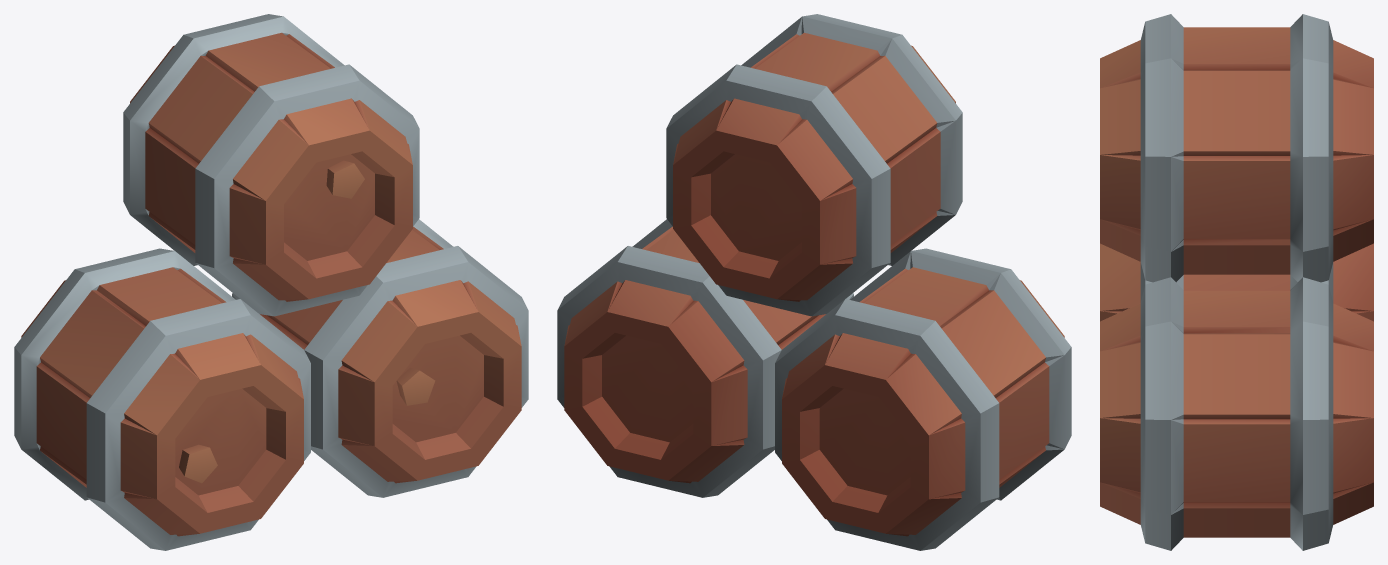
Rendered from cc0-barrel-stack-lod1.glb.
3 views of the same model, side by side, from view 1: azimuth 30°, elevation 25°; view 2: azimuth 150°, elevation 25°; view 3: azimuth 270°, elevation 25° (orthographic).
Parts seen in each view (by area): view 1: part_0; view 2: part_0; view 3: part_0.
Boxes of the visible parts, x1=… form: part_0: x1=14, y1=14, x2=528, y2=550; part_0: x1=557, y1=14, x2=1071, y2=550; part_0: x1=1100, y1=14, x2=1373, y2=550.
Size of the model in its own units: 1.85 by 1.77 by 1.
Materials: 1 (1 with a texture image).
